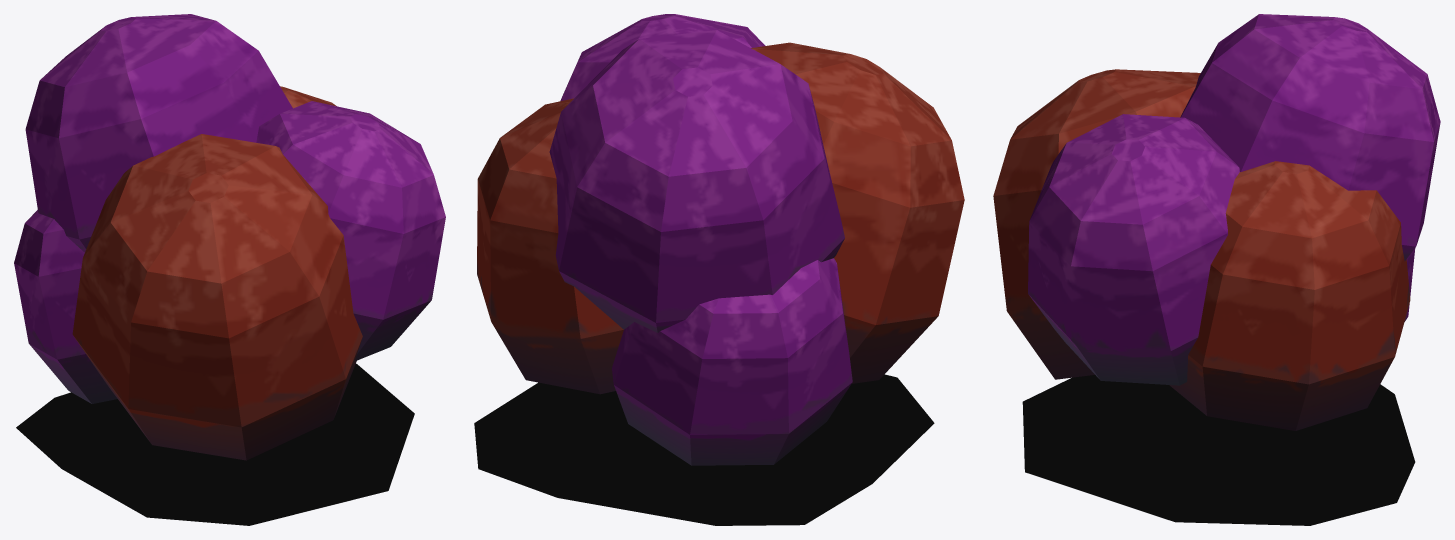
Rendered from Tree_007.fbx.
3 views of the same model, side by side, from view 1: azimuth 30°, elevation 25°; view 2: azimuth 150°, elevation 25°; view 3: azimuth 270°, elevation 25° (orthographic). The views are drawn at different scales.
Parts seen in each view (by area): view 1: Tree_003_01, Tree_003_02.001, Shadow, Tree_003_04, Tree_003_02; view 2: Tree_003_02.001, Shadow, Tree_003_01, Tree_003_02, Tree_003_03, Tree_003_04; view 3: Tree_003_03, Tree_003_04, Shadow, Tree_003_02.001, Tree_003_01.
Part boxes in pixels (x1,y1,x2,y2): Tree_003_01: [72, 134, 362, 460]; Tree_003_02.001: [25, 14, 292, 252]; Shadow: [16, 363, 414, 525]; Tree_003_04: [256, 101, 445, 361]; Tree_003_02: [14, 210, 117, 403]; Tree_003_02.001: [549, 30, 844, 332]; Shadow: [474, 374, 934, 525]; Tree_003_01: [751, 42, 964, 383]; Tree_003_02: [612, 258, 852, 465]; Tree_003_03: [477, 98, 623, 394]; Tree_003_04: [560, 14, 765, 101]; Tree_003_03: [1169, 161, 1410, 430]; Tree_003_04: [1028, 114, 1239, 385]; Shadow: [1022, 375, 1415, 525]; Tree_003_02.001: [1180, 14, 1440, 261]; Tree_003_01: [993, 69, 1200, 379].
Bounding box in the file's own units: 204 × 224 × 228.
